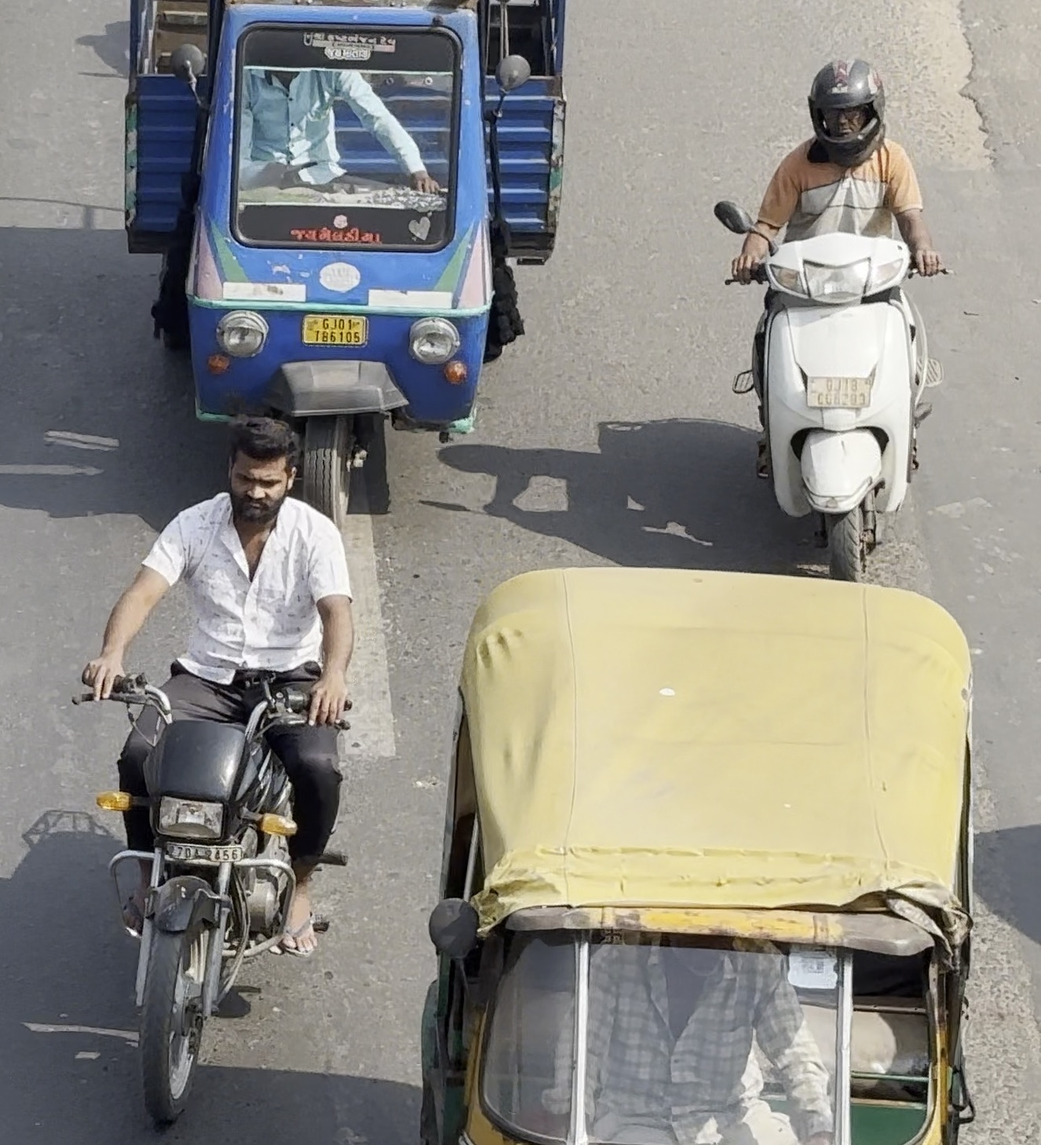BikeWithRider: (68, 410, 360, 1128), (706, 53, 952, 584)
Helmet: (802, 55, 894, 173)
NoHelmet: (219, 416, 299, 525)
